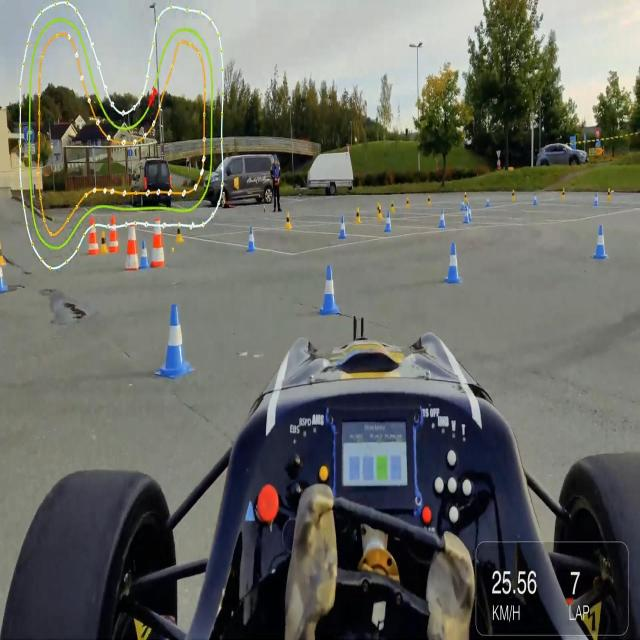blue_cone: (154, 294, 198, 386), (318, 263, 343, 317), (443, 240, 465, 286), (591, 222, 610, 260), (138, 238, 150, 270), (245, 223, 257, 254), (0, 266, 10, 298), (338, 212, 348, 240), (437, 208, 448, 228), (383, 210, 392, 233), (462, 207, 471, 225), (466, 204, 473, 223), (593, 192, 599, 208), (484, 196, 491, 208), (533, 192, 539, 206), (461, 198, 466, 212)
large_orange_cone: (150, 216, 167, 271), (124, 217, 140, 272), (87, 211, 100, 257), (108, 213, 122, 254)
yellow_cone: (99, 228, 109, 256), (175, 221, 185, 245), (0, 238, 7, 270), (284, 209, 293, 233), (354, 205, 363, 225), (389, 199, 397, 216), (377, 201, 382, 220), (561, 187, 567, 201), (607, 187, 612, 202), (406, 196, 410, 210), (512, 189, 516, 203)
